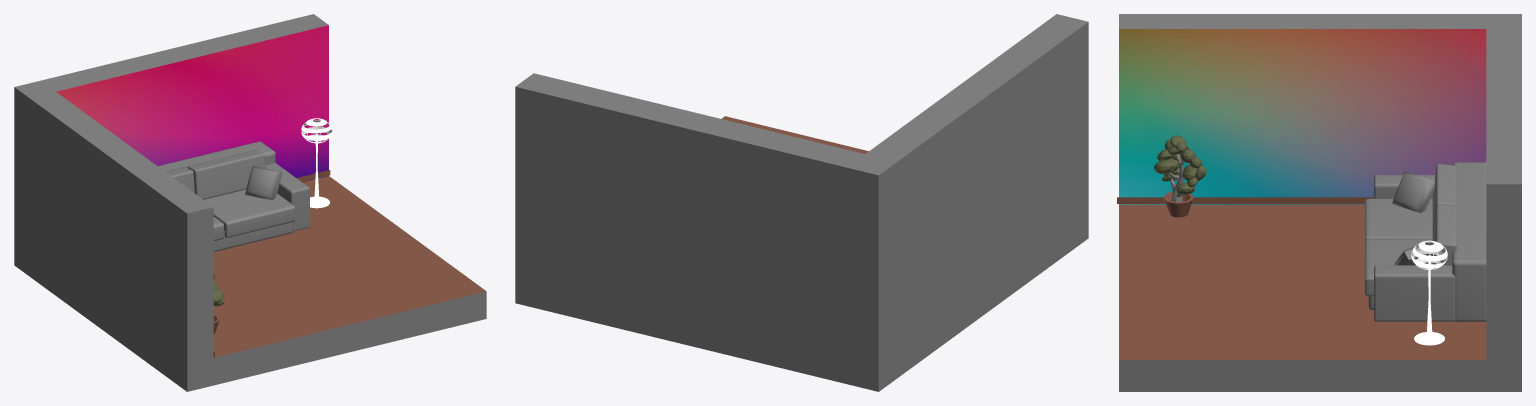
3 views of the same model, side by side, from view 1: azimuth 30°, elevation 25°; view 2: azimuth 150°, elevation 25°; view 3: azimuth 270°, elevation 25° (orthographic). The views are drawn at different scales.
Visible parts, largest first — view 1: Icosphere.002, Icosphere.003, Cube.003, Cube.004, Cube.002, Cube.001, lamp.000, Cube.005, Cube; view 2: Icosphere.002; view 3: Icosphere.002, Icosphere.003, Cube.002, Cube.001, Cube.003, Oak.002, Cube.004, Cube.005, lamp.000.
Part boxes in pixels (x1,y1,x2,y2): Icosphere.002: (14,14,486,391); Icosphere.003: (56,25,328,182); Cube.003: (204,189,294,240); Cube.004: (165,149,265,199); Cube.002: (265,163,309,231); Cube.001: (158,141,275,171); lamp.000: (301,118,332,208); Cube.005: (245,166,282,199); Cube: (213,222,292,251); Icosphere.002: (515,14,1088,391); Icosphere.002: (1117,14,1521,391); Icosphere.003: (1119,29,1486,204); Cube.002: (1374,175,1455,321); Cube.001: (1452,162,1486,321); Cube.003: (1365,198,1432,295); Oak.002: (1154,135,1206,217); Cube.004: (1432,163,1456,265); Cube.005: (1391,171,1434,265); lamp.000: (1411,240,1447,345).
Bounding box in the file's own units: 8.43 × 4.78 × 8.45.
Materials: 6 (1 with a texture image).
